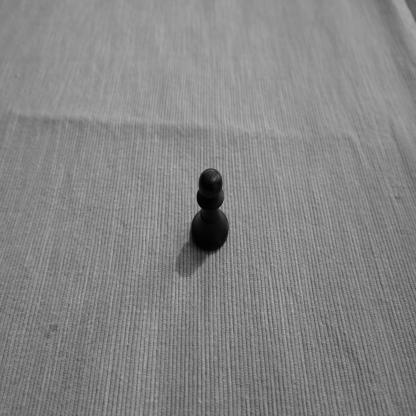black-pawn: (190, 167, 230, 253)
